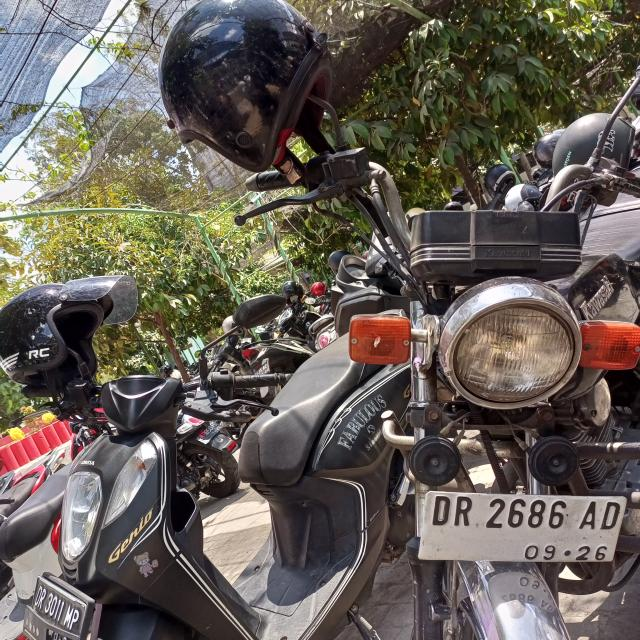plate: (420, 486, 628, 568), (23, 572, 96, 640)
